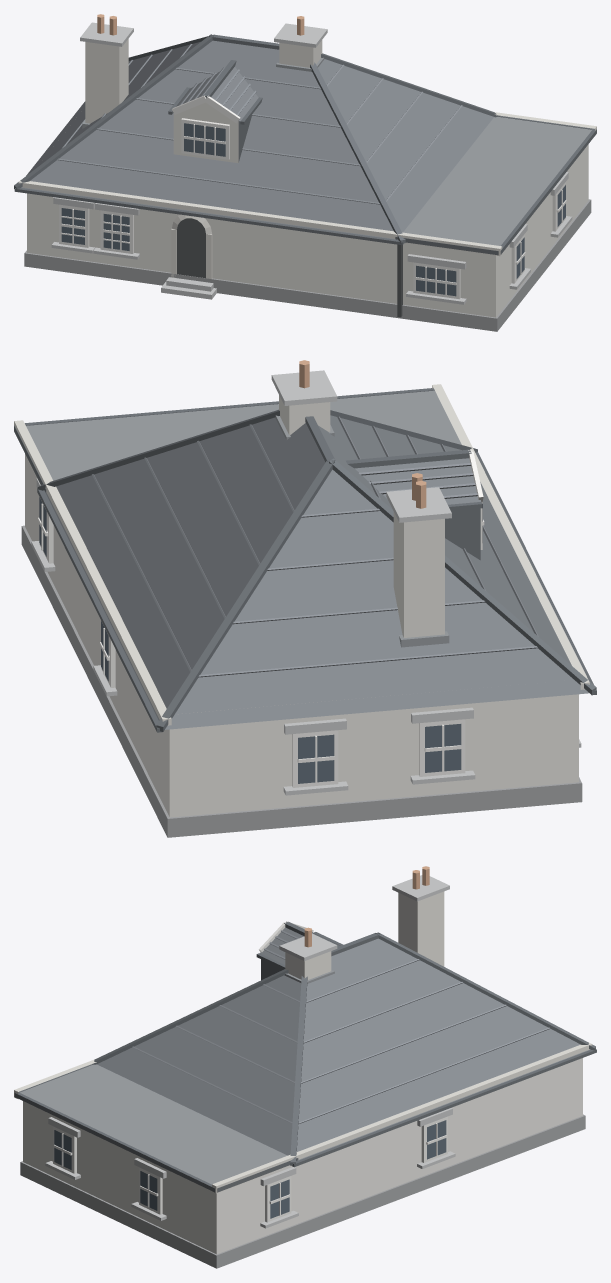
The picture shows the model from 3 angles, top to bottom: view 1: azimuth 30°, elevation 25°; view 2: azimuth 150°, elevation 25°; view 3: azimuth 270°, elevation 25°; orthographic projection. The views are drawn at different scales.
Visible parts, largest first — view 1: slate, harl, lead, slate_dk, plinth, stone_band, string, frame, chim_render, slate_lt, door_dark, window_glass_001 (+5 smaller); view 2: slate, harl, slate_dk, lead, plinth, chim_render, string, stone_band, slate_lt, frame, window_glass_005, window_glass_006 (+1 smaller); view 3: slate, harl, lead, slate_dk, plinth, stone_band, chim_render, string, slate_lt, frame, window_glass_009, window_glass_010.
Part boxes in pixels (box(x1,y1,x2,y2)): slate: box(21, 40, 493, 239); harl: box(27, 102, 588, 317); lead: box(82, 57, 591, 245); slate_dk: box(14, 34, 596, 255); plinth: box(24, 199, 591, 331); stone_band: box(51, 22, 572, 304); string: box(18, 112, 596, 278); frame: box(59, 95, 566, 299); chim_render: box(85, 39, 322, 123); slate_lt: box(57, 44, 462, 204); door_dark: box(177, 218, 205, 278); window_glass_001: box(184, 123, 225, 156); slate: box(44, 415, 589, 729); harl: box(25, 454, 578, 817); slate_dk: box(14, 388, 596, 732); lead: box(26, 390, 461, 647); plinth: box(21, 525, 582, 837); chim_render: box(279, 395, 444, 637); string: box(14, 384, 589, 725); stone_band: box(31, 370, 581, 795); slate_lt: box(92, 416, 538, 677); frame: box(38, 450, 484, 787); window_glass_005: box(298, 734, 334, 783); window_glass_006: box(425, 724, 461, 772); slate: box(97, 927, 590, 1161); harl: box(23, 1058, 582, 1254); lead: box(19, 970, 334, 1184); slate_dk: box(14, 921, 596, 1192); plinth: box(20, 1114, 585, 1268); stone_band: box(45, 875, 455, 1228); chim_render: box(285, 891, 444, 979); string: box(14, 1042, 592, 1193); slate_lt: box(132, 930, 550, 1123); frame: box(53, 921, 447, 1222); window_glass_009: box(270, 1179, 289, 1218); window_glass_010: box(427, 1120, 446, 1159).
Bounding box in the file's own units: 17.62 × 7.51 × 18.01.
